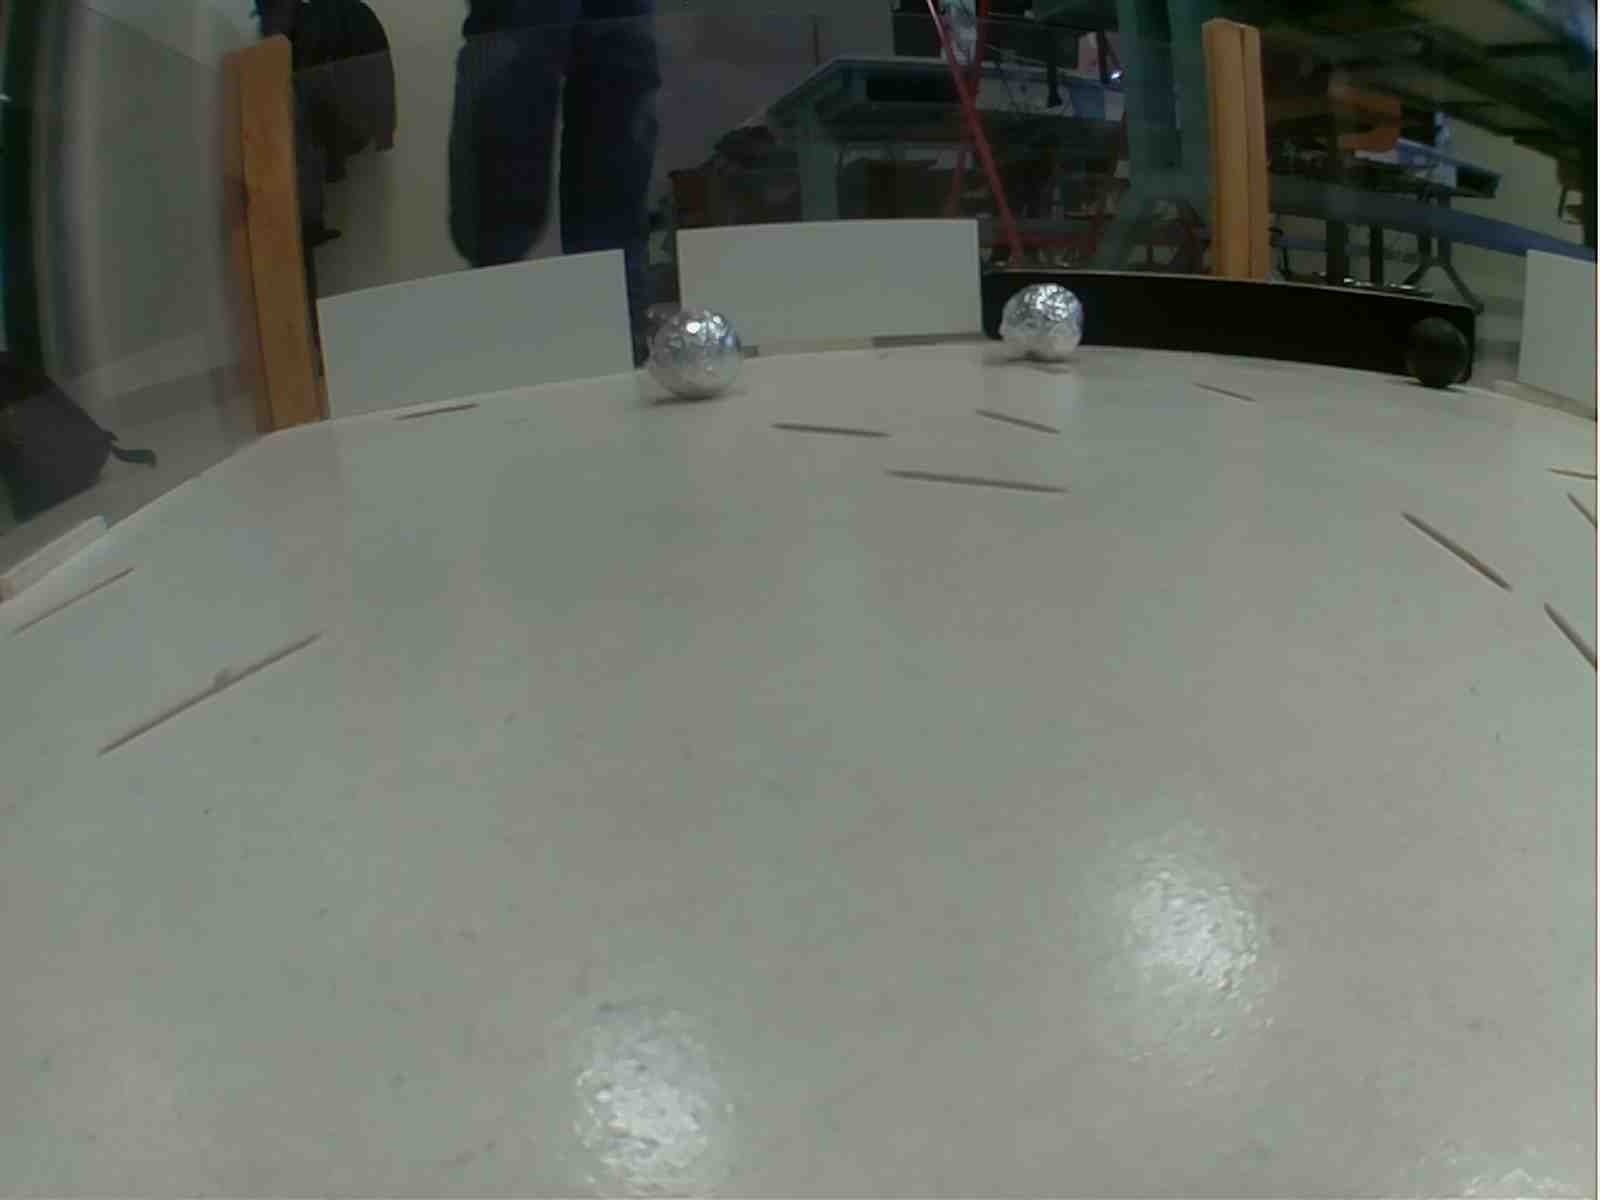bianca: (648, 308, 740, 401), (997, 284, 1086, 366)
nera: (1409, 324, 1469, 392)
